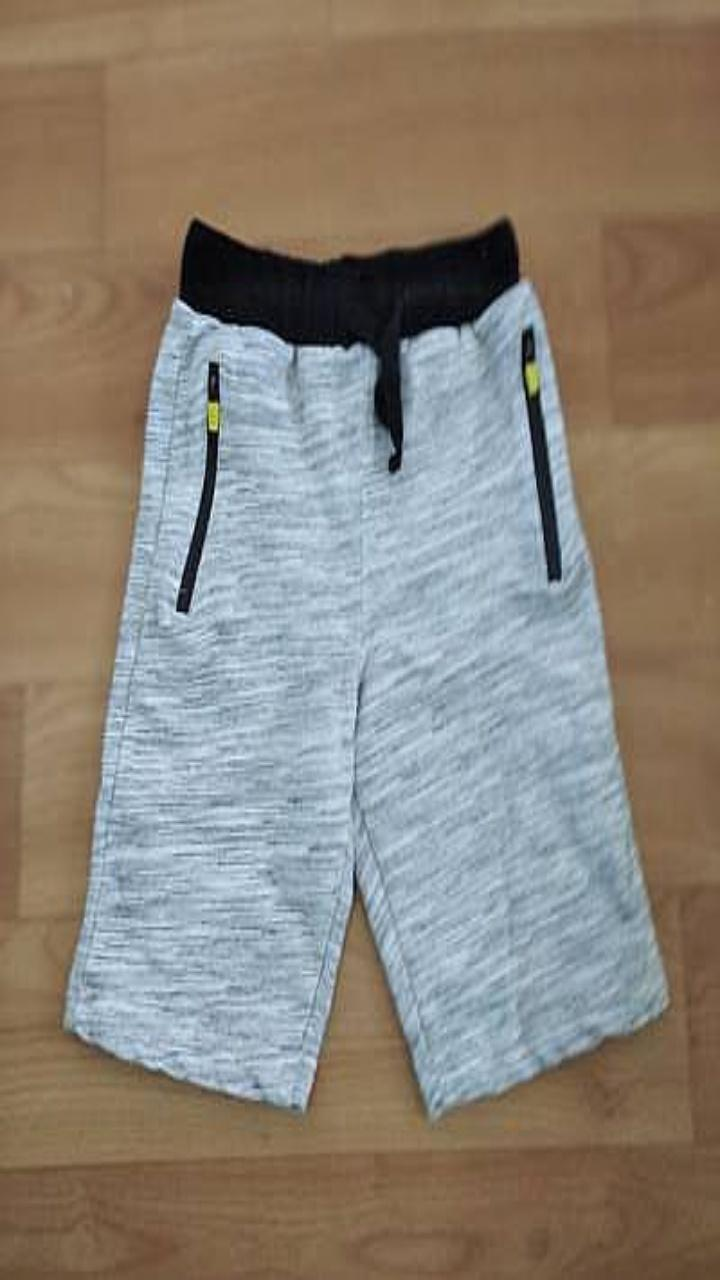Shorts: (64, 219, 667, 1115)
